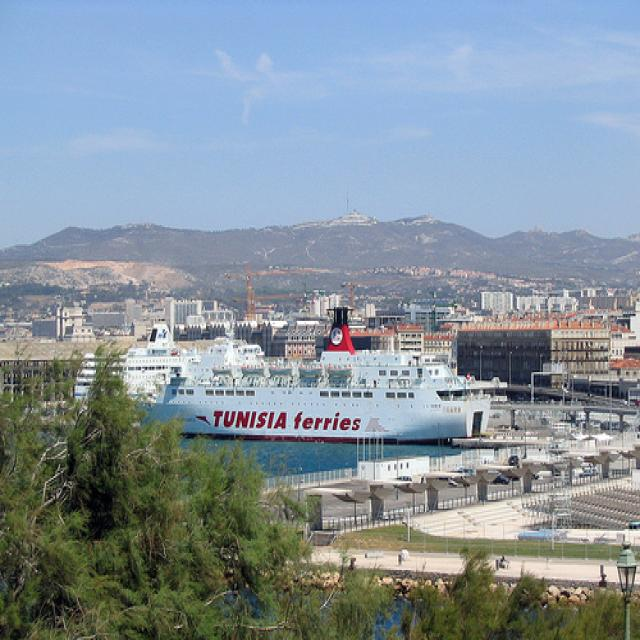boat: (129, 305, 491, 446), (74, 322, 266, 404)
